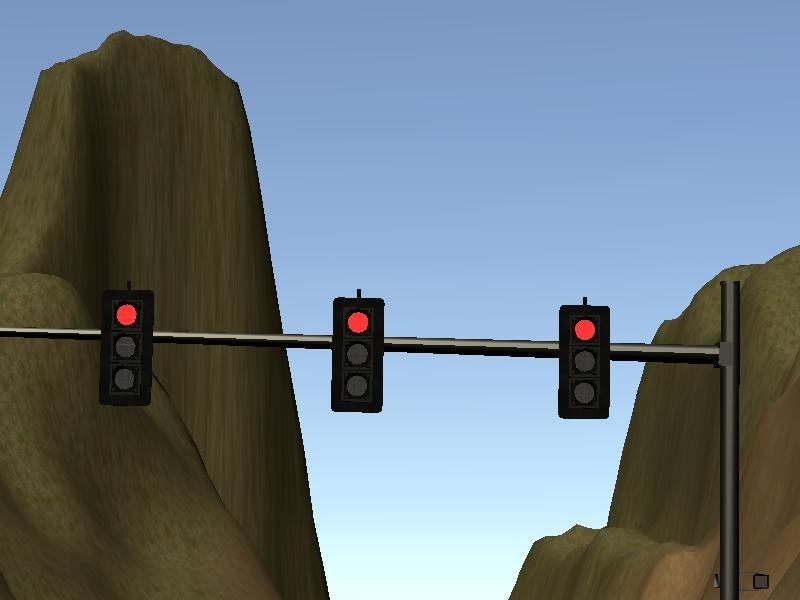RED: (98, 292, 154, 410), (329, 296, 385, 414), (557, 304, 613, 422)
